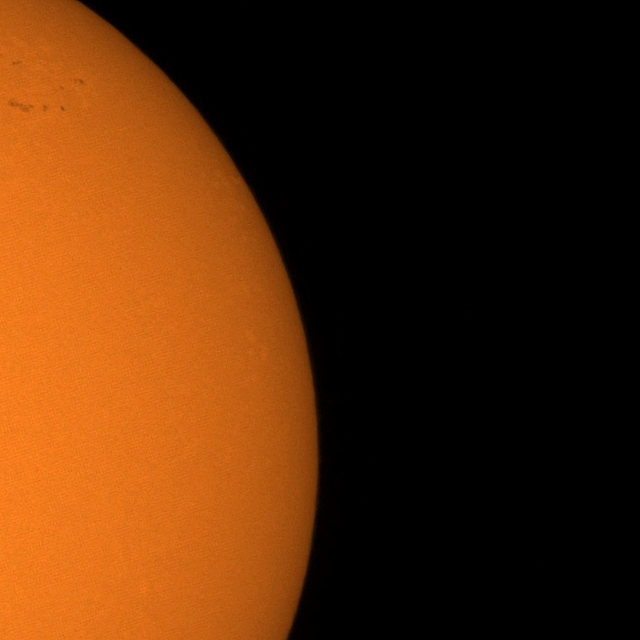sunspot: (8, 98, 43, 115)
